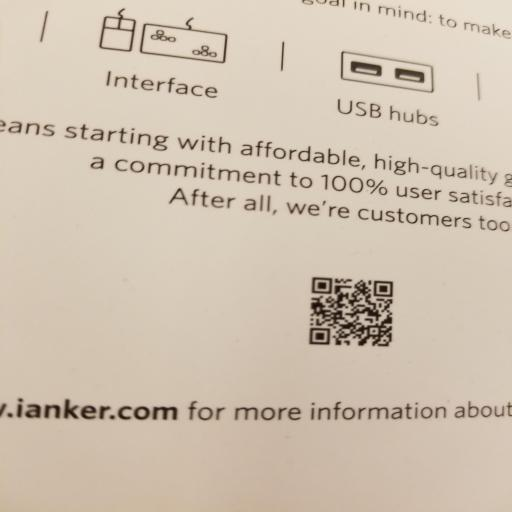QR_CODE: (294, 266, 405, 356)
